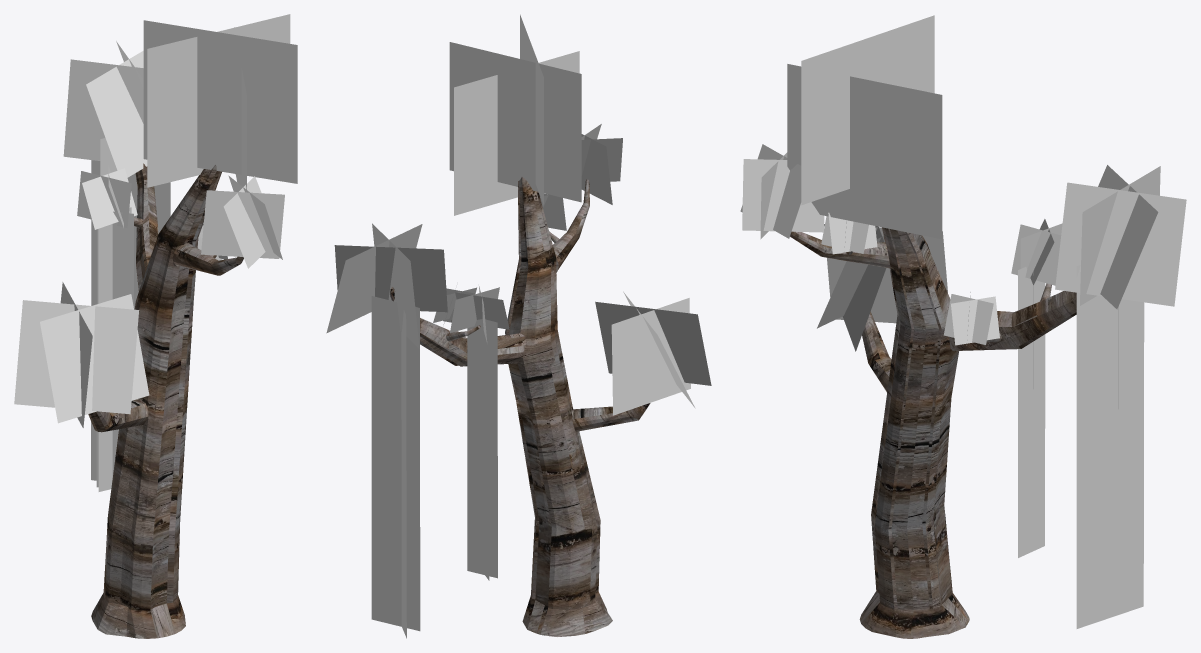
The model's file is Tree.fbx.
3 renders of one model, left to right at view 1: azimuth 30°, elevation 25°; view 2: azimuth 150°, elevation 25°; view 3: azimuth 270°, elevation 25°, orthographic. The views are drawn at different scales.
Visible parts, largest first — view 1: Cylinder, Plane.016, Plane.015, Plane.012, Plane.014, Plane.005, Plane.004, Plane.022, Plane.025, Plane.026, Plane.024, Plane.023 (+6 smaller); view 2: Cylinder, Plane.027, Plane.015, Plane.024, Plane.017, Plane.013, Plane.014, Plane.005, Plane.003, Plane.026, Plane.004, Plane.016 (+7 smaller); view 3: Cylinder, Plane.026, Plane.017, Plane.016, Plane.003, Plane.025, Plane.021, Plane.005, Plane.004, Plane.013, Plane.014, Plane.023 (+7 smaller).
Boxes of the visible parts, x1,y1,x2,y2 form: Cylinder: (88,163,243,638); Plane.016: (143,20,297,183); Plane.015: (147,14,290,187); Plane.012: (14,300,139,414); Plane.014: (40,294,149,423); Plane.005: (86,50,147,177); Plane.004: (63,59,143,160); Plane.022: (201,190,284,258); Plane.025: (96,211,133,487); Plane.026: (91,160,170,480); Plane.024: (98,207,131,491); Plane.023: (223,176,265,268); Cylinder: (390,177,650,636); Plane.027: (371,296,420,631); Plane.015: (449,42,581,202); Plane.024: (467,319,497,578); Plane.017: (454,51,579,215); Plane.013: (611,298,690,415); Plane.014: (595,301,711,385); Plane.005: (334,245,447,312); Plane.003: (326,224,422,333); Plane.026: (401,310,406,638); Plane.004: (372,223,419,348); Plane.016: (520,14,543,205); Cylinder: (790,227,1076,638); Plane.026: (1076,265,1144,628); Plane.017: (787,64,942,239); Plane.016: (801,15,934,205); Plane.003: (1055,182,1186,306); Plane.025: (1018,267,1045,557); Plane.021: (742,159,824,232); Plane.005: (1098,165,1158,309); Plane.004: (1080,166,1160,305); Plane.013: (824,224,947,323); Plane.014: (842,226,886,351); Plane.023: (740,144,801,238).
Size of the model in its own units: 871 by 1737 by 1151.
